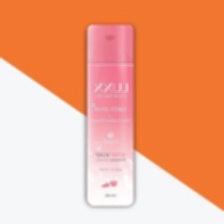cleaning_solution: (81, 18, 140, 210)
